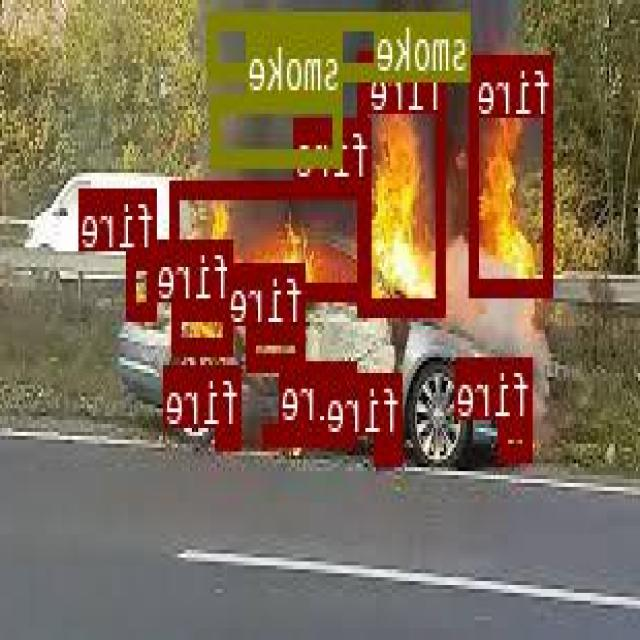fire: (172, 179, 372, 295), (361, 51, 446, 312), (473, 53, 554, 291), (173, 299, 235, 352), (249, 325, 307, 365), (130, 251, 159, 317), (265, 424, 357, 441), (501, 420, 534, 458), (377, 434, 403, 462), (218, 428, 243, 447)
smoke: (209, 10, 472, 76), (214, 93, 344, 161)
